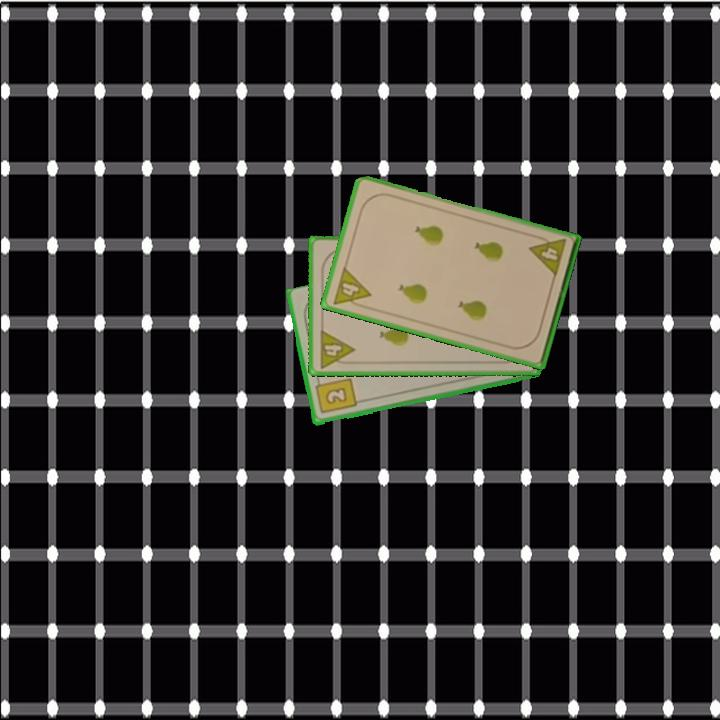2b: (312, 375, 359, 417)
4p: (330, 263, 374, 312), (526, 231, 569, 279), (316, 326, 357, 371)
